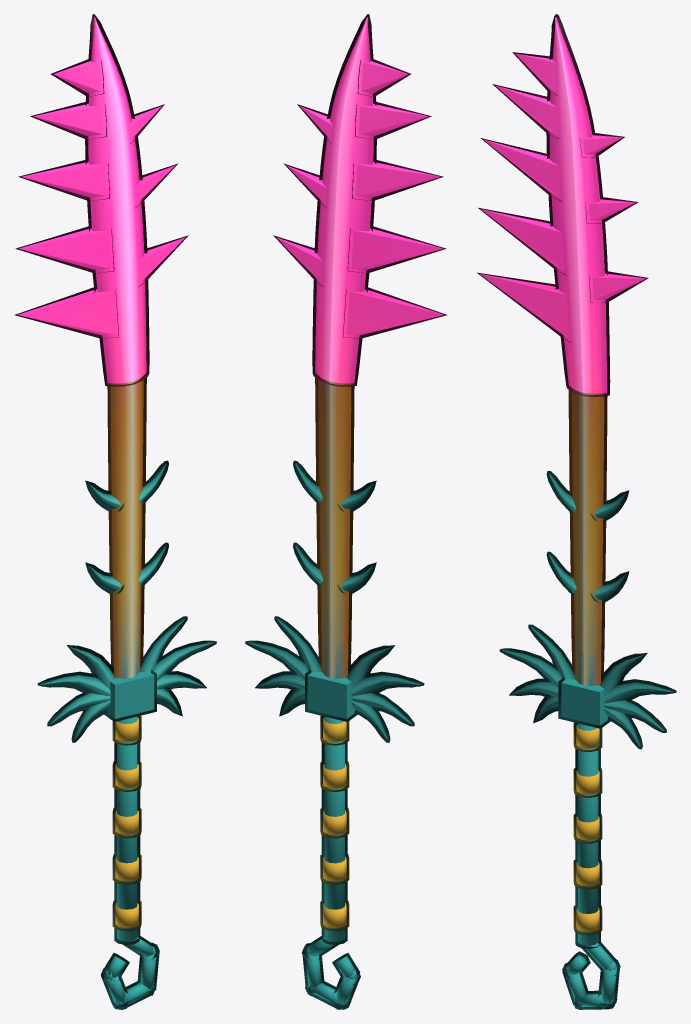
Rendered from w_coral_spine.glb.
3 views of the same model, side by side, from view 1: azimuth 30°, elevation 25°; view 2: azimuth 150°, elevation 25°; view 3: azimuth 330°, elevation 25° (orthographic).
Parts seen in each view (by area): view 1: Weapon_1, Outline, Weapon_2, Weapon_0; view 2: Weapon_1, Outline, Weapon_2, Weapon_0; view 3: Weapon_1, Outline, Weapon_2, Weapon_0.
Part boxes in pixels (x1=…): Weapon_1: x1=17, y1=17, x2=185, y2=383; Outline: x1=14, y1=14, x2=216, y2=1009; Weapon_2: x1=40, y1=463, x2=213, y2=1005; Weapon_0: x1=110, y1=376, x2=143, y2=927; Weapon_1: x1=276, y1=17, x2=443, y2=383; Outline: x1=245, y1=14, x2=447, y2=1009; Weapon_2: x1=248, y1=463, x2=421, y2=1005; Weapon_0: x1=318, y1=376, x2=351, y2=927; Weapon_1: x1=480, y1=17, x2=645, y2=393; Outline: x1=477, y1=14, x2=676, y2=1009; Weapon_2: x1=502, y1=473, x2=673, y2=1006; Weapon_0: x1=571, y1=388, x2=604, y2=932.
Size of the model in its own units: 0.3109 by 1.47 by 0.0455.
